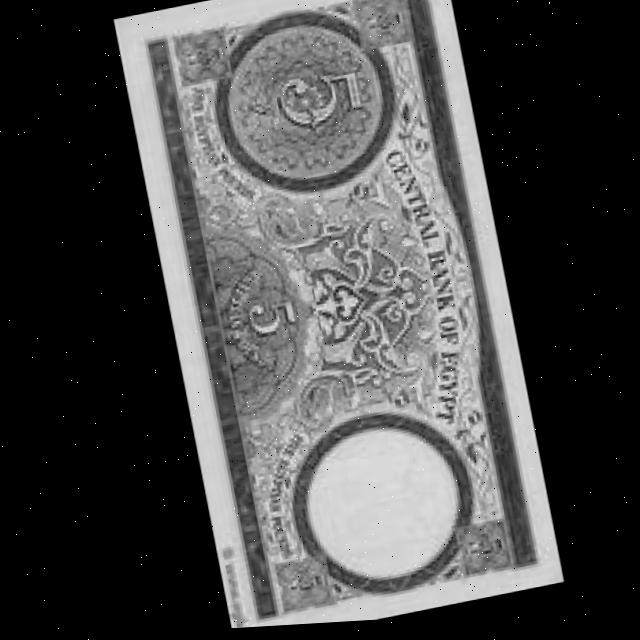banknote: (112, 0, 560, 635)
